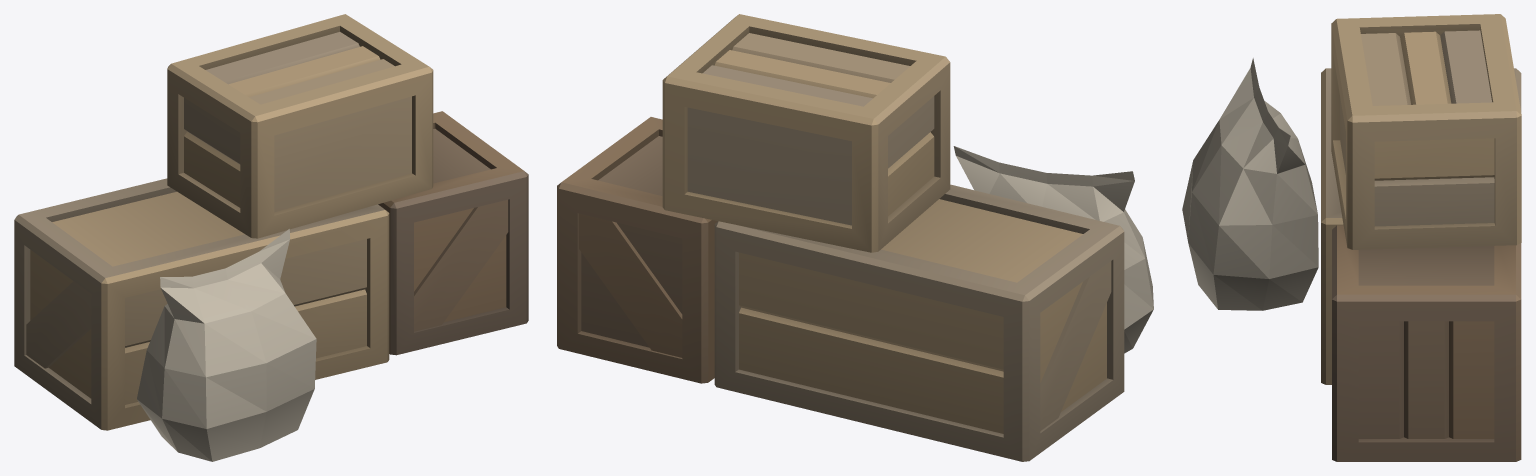
The model's file is crates.glb.
3 renders of one model, left to right at view 1: azimuth 30°, elevation 25°; view 2: azimuth 150°, elevation 25°; view 3: azimuth 270°, elevation 25°, orthographic. The views are drawn at different scales.
Visible parts, largest first — view 1: crates; view 2: crates; view 3: crates.
Boxes of the visible parts, x1,y1,x2,y2 form: crates: (14,14,528,461); crates: (557,14,1153,461); crates: (1182,14,1521,461).
Bounding box in the file's own units: 1.5 × 0.9 × 0.9323.
